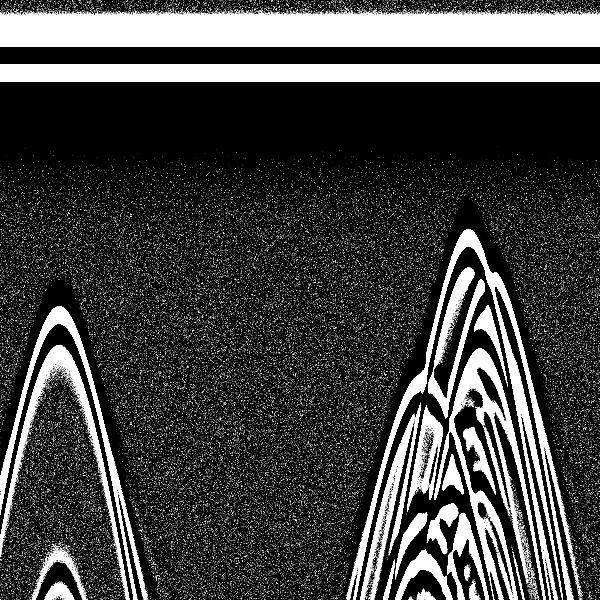pipe: (372, 6, 467, 463), (13, 3, 109, 394), (447, 3, 535, 358), (426, 6, 504, 311)
